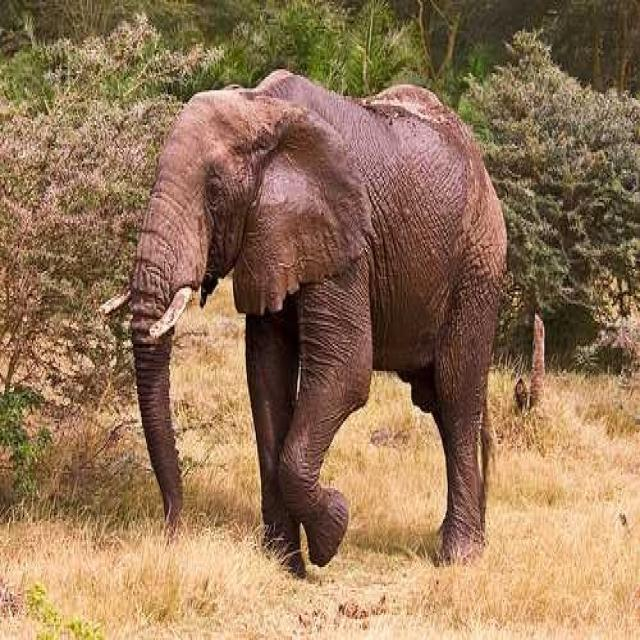Elephant: (99, 66, 508, 578)
